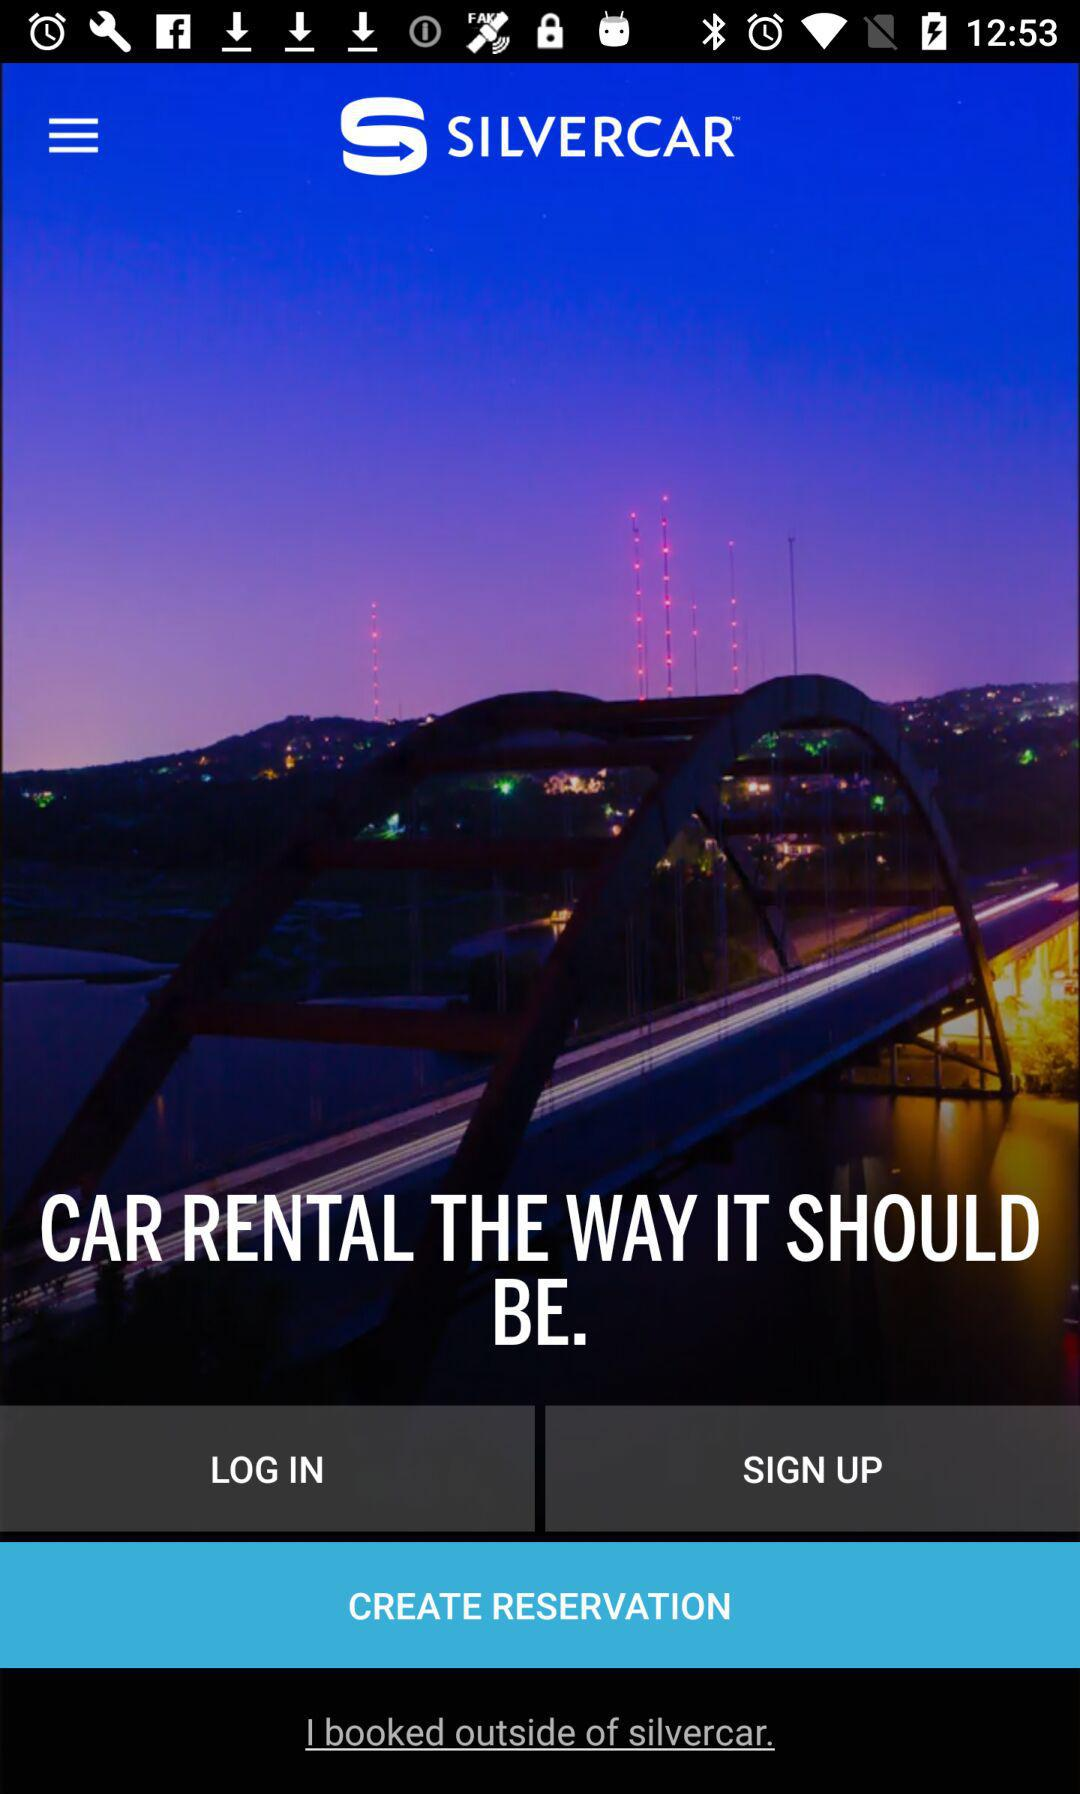BackgroundImage: (1, 64, 1080, 1794)
Icon: (47, 117, 101, 155)
Image: (340, 97, 740, 178)
Text: (41, 1194, 1040, 1345), (305, 1716, 776, 1752)
TextButton: (1, 1542, 1080, 1668), (544, 1404, 1080, 1533), (1, 1404, 536, 1533)
UpperTaskBar: (1, 1, 1080, 64)
